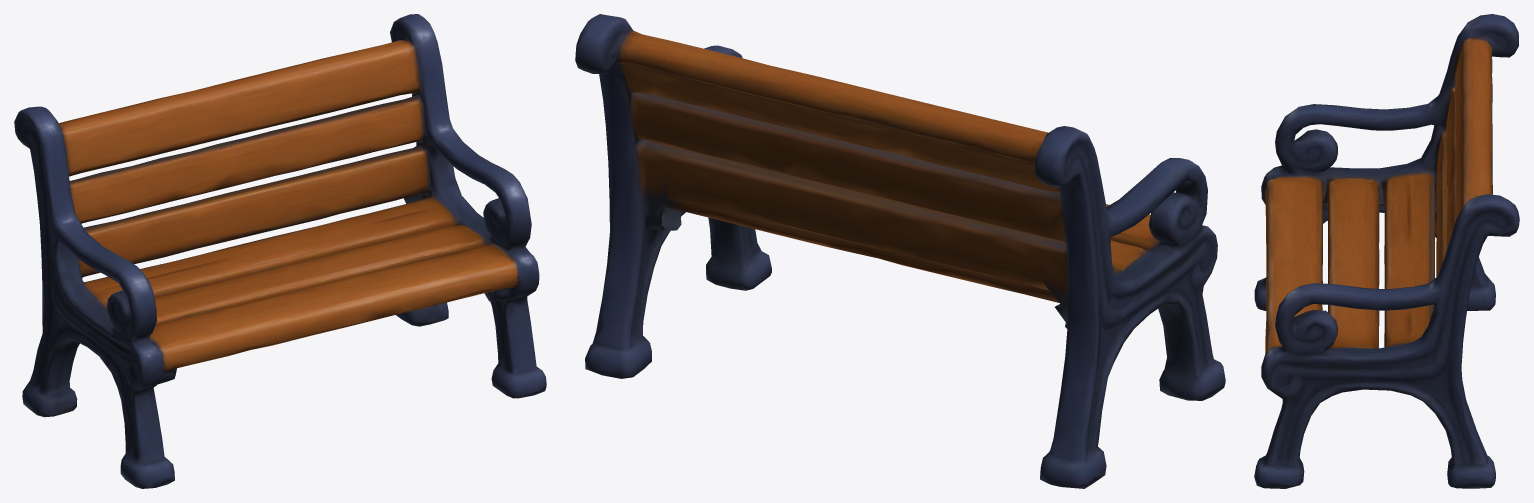
Rendered from bench.glb.
3 renders of one model, left to right at view 1: azimuth 30°, elevation 25°; view 2: azimuth 150°, elevation 25°; view 3: azimuth 270°, elevation 25°, orthographic. The views are drawn at different scales.
Bounding box in the file's own units: 1 × 0.6764 × 0.5711.
Materials: 1 (1 with a texture image).
